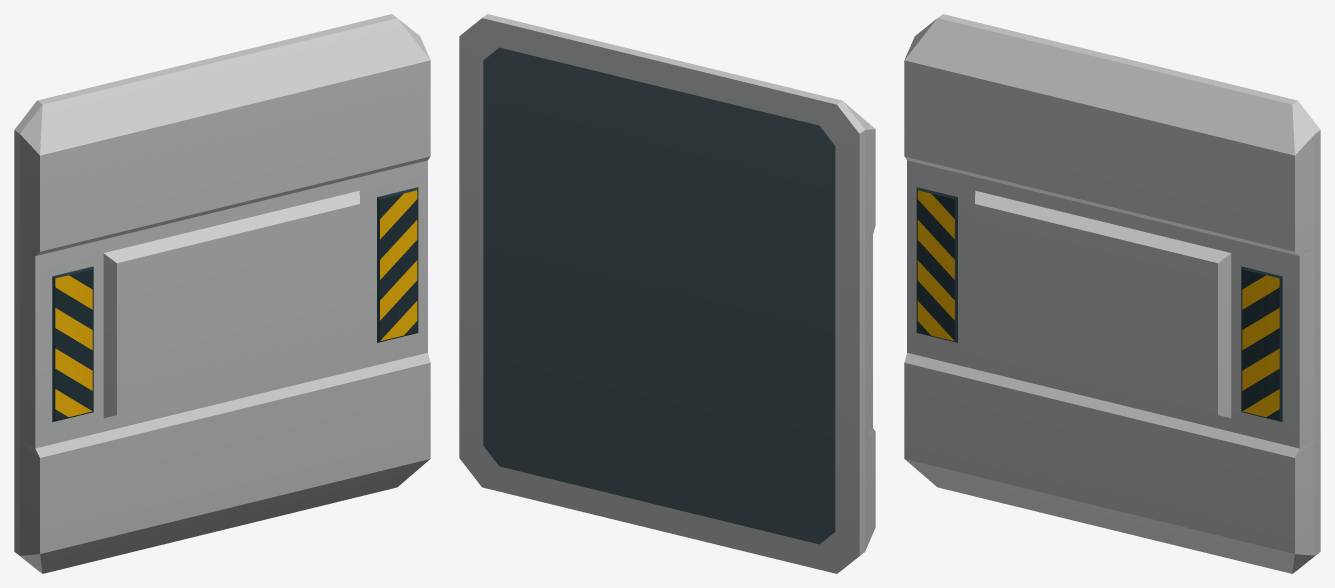
File: Container_type_A_door_004.fbx
The picture shows the model from 3 angles, left to right: view 1: azimuth 30°, elevation 25°; view 2: azimuth 150°, elevation 25°; view 3: azimuth 330°, elevation 25°; orthographic projection.
Parts seen in each view (by area): view 1: Container_type_A_door_004; view 2: Container_type_A_door_004; view 3: Container_type_A_door_004.
Part boxes in pixels (x1,y1,x2,y2): Container_type_A_door_004: (14,14,430,573); Container_type_A_door_004: (459,14,875,573); Container_type_A_door_004: (904,14,1320,573).
Bounding box in the file's own units: 166 × 17.3 × 186.
